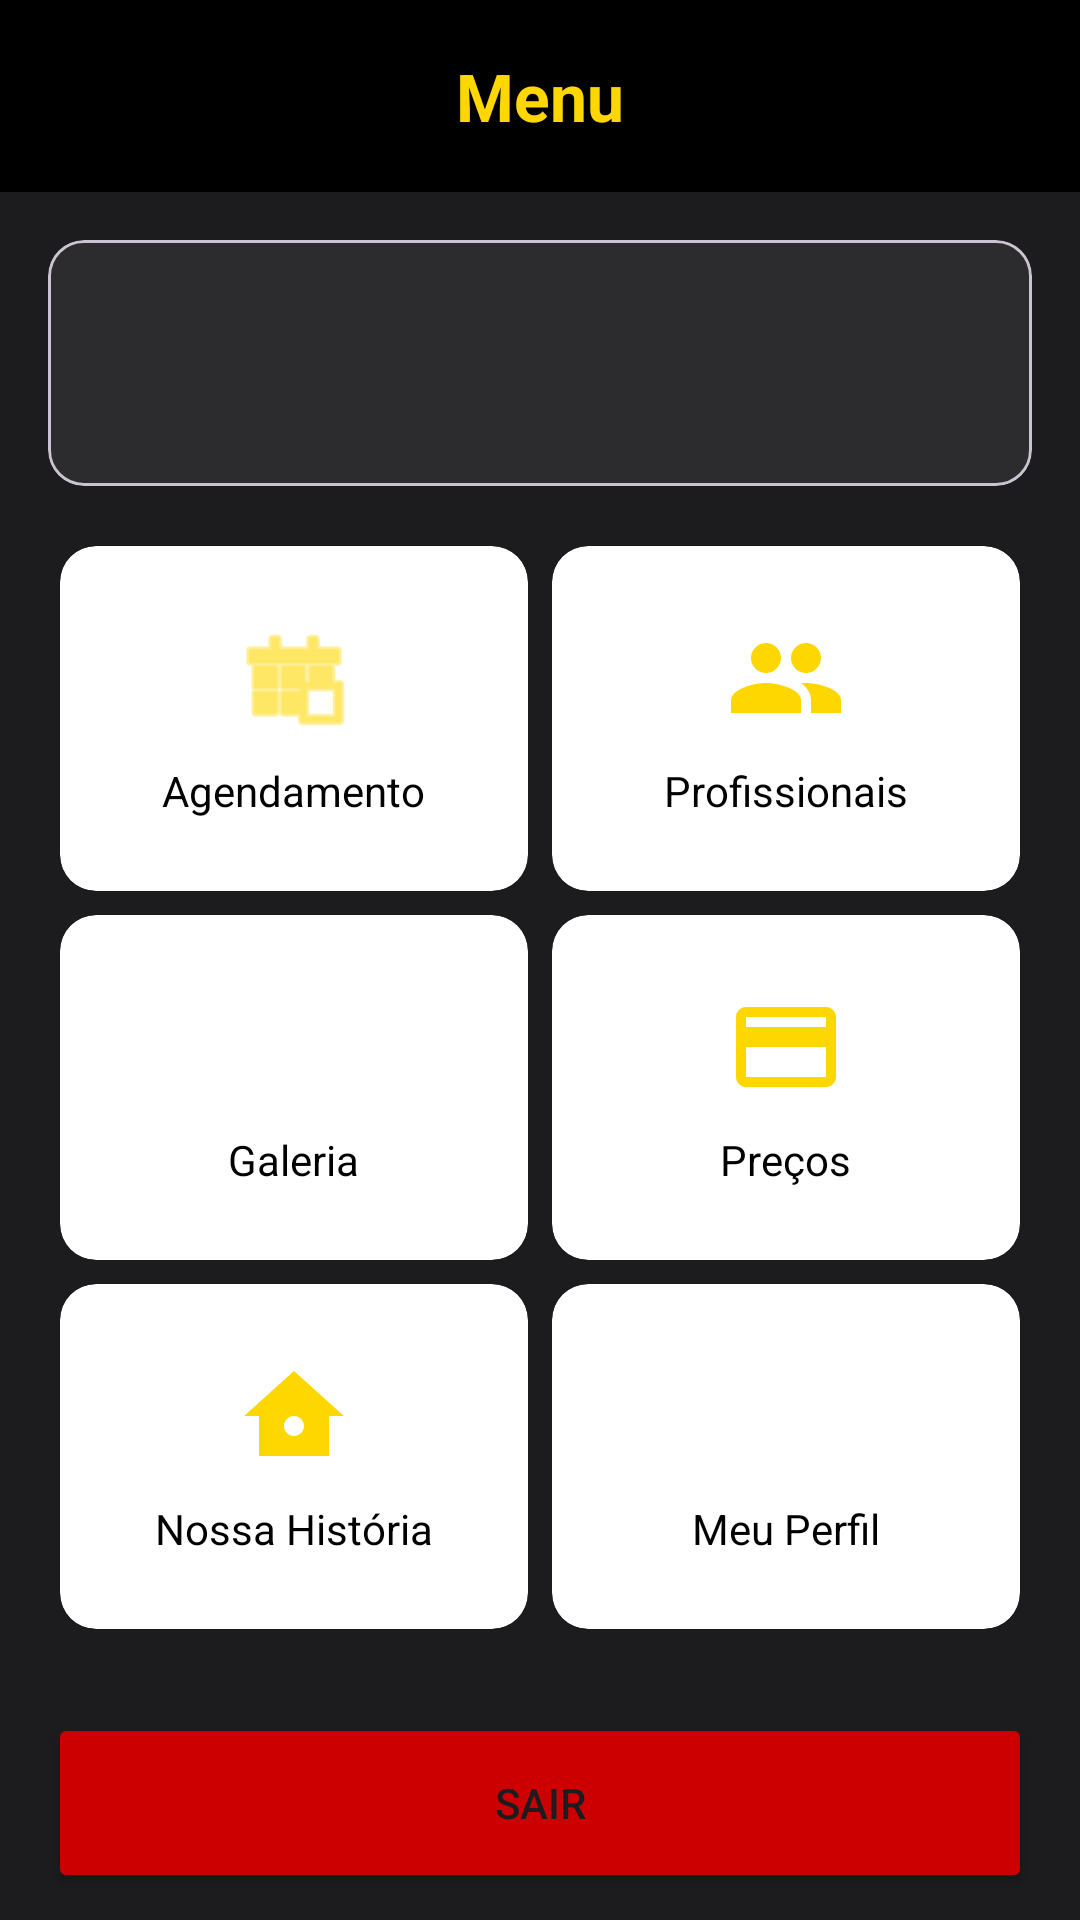

Named icons in this screenshot (1080 x 1920) and their centers, (x=x, y=y):
precos: (x=786, y=1047)
today: (x=295, y=680)
